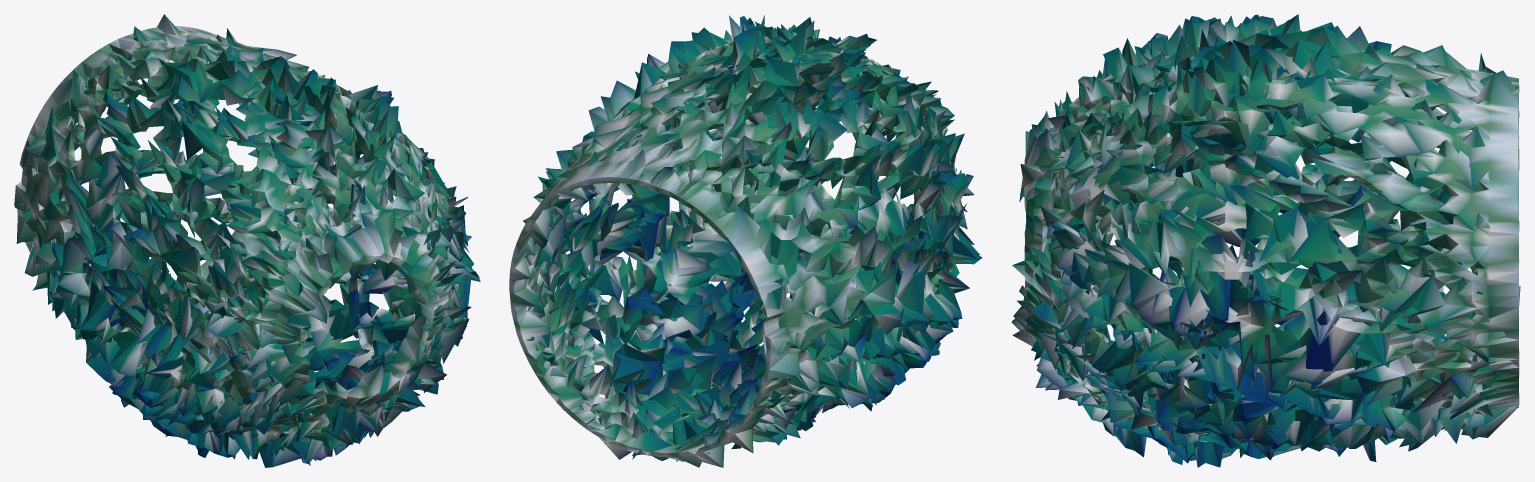
File: lamp_shade_14_final300.obj
The picture shows the model from 3 angles, left to right: view 1: azimuth 30°, elevation 25°; view 2: azimuth 150°, elevation 25°; view 3: azimuth 270°, elevation 25°; orthographic projection. The views are drawn at different scales.
Bounding box in the file's own units: 1.35 × 1.38 × 1.53.
